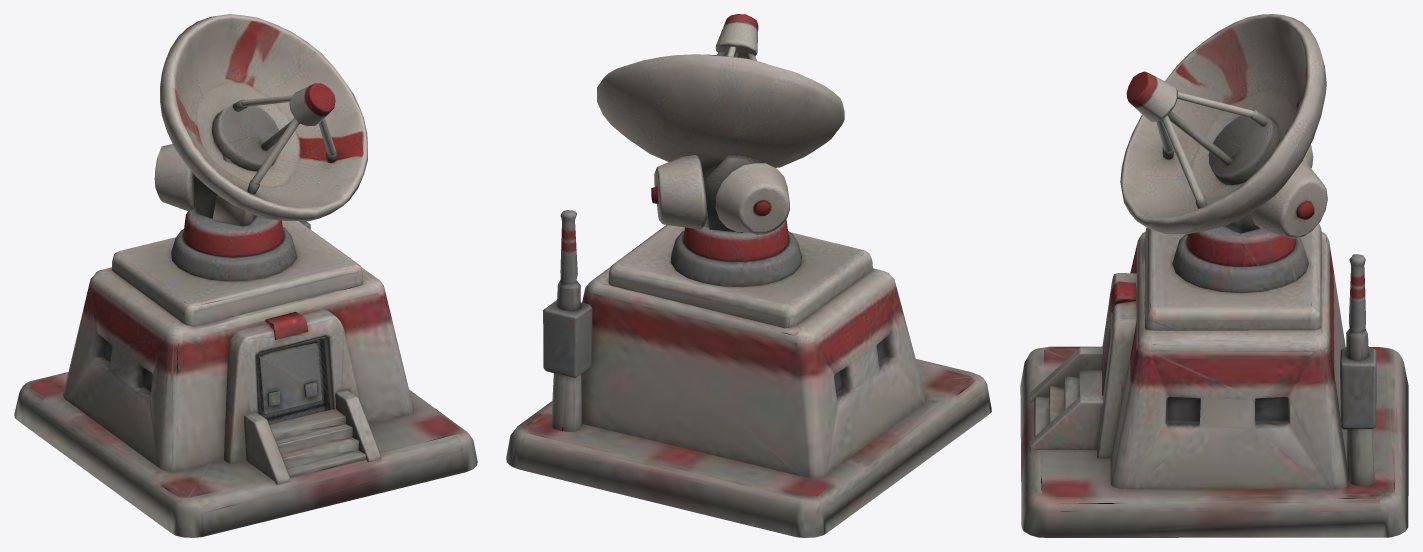
File: radar.glb
The picture shows the model from 3 angles, left to right: view 1: azimuth 30°, elevation 25°; view 2: azimuth 150°, elevation 25°; view 3: azimuth 270°, elevation 25°; orthographic projection. The views are drawn at different scales.
Parts seen in each view (by area): view 1: hull, turret; view 2: hull, turret; view 3: hull, turret.
Part boxes in pixels (bbox=[...]): hull: bbox=[14, 215, 477, 537]; turret: bbox=[154, 14, 367, 236]; hull: bbox=[506, 210, 991, 537]; turret: bbox=[597, 14, 844, 240]; hull: bbox=[1020, 223, 1408, 537]; turret: bbox=[1120, 14, 1327, 243].
Size of the model in its own units: 0.8142 by 1 by 0.8222.
1 material, 1 textured.
